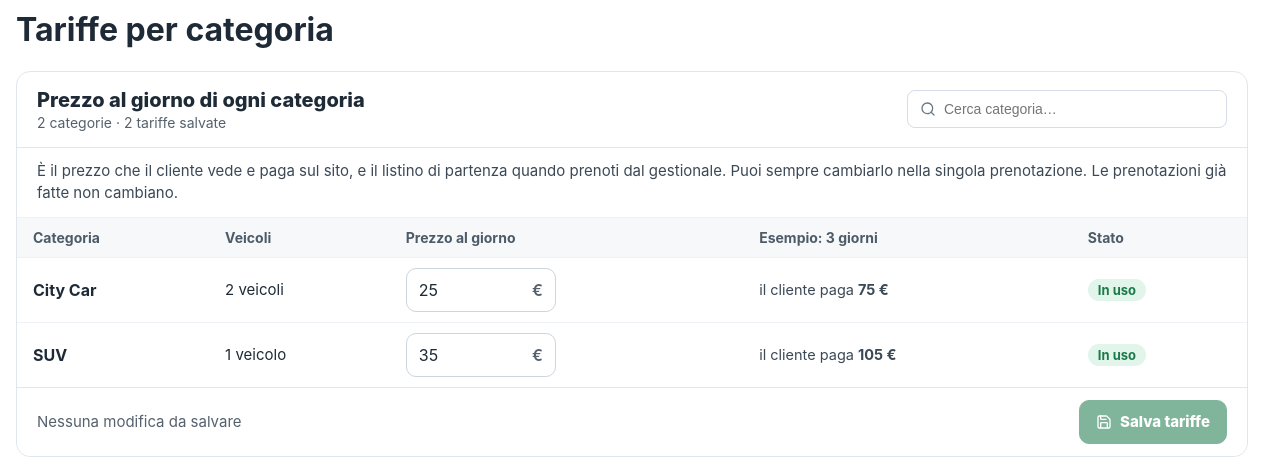
Test: "Annulla modifiche" riporta i campi toccati al valore salvato
Replace the text in the field named "Prezzo al giorno City Car" with "99" at [481, 290], box [406, 268, 556, 312]
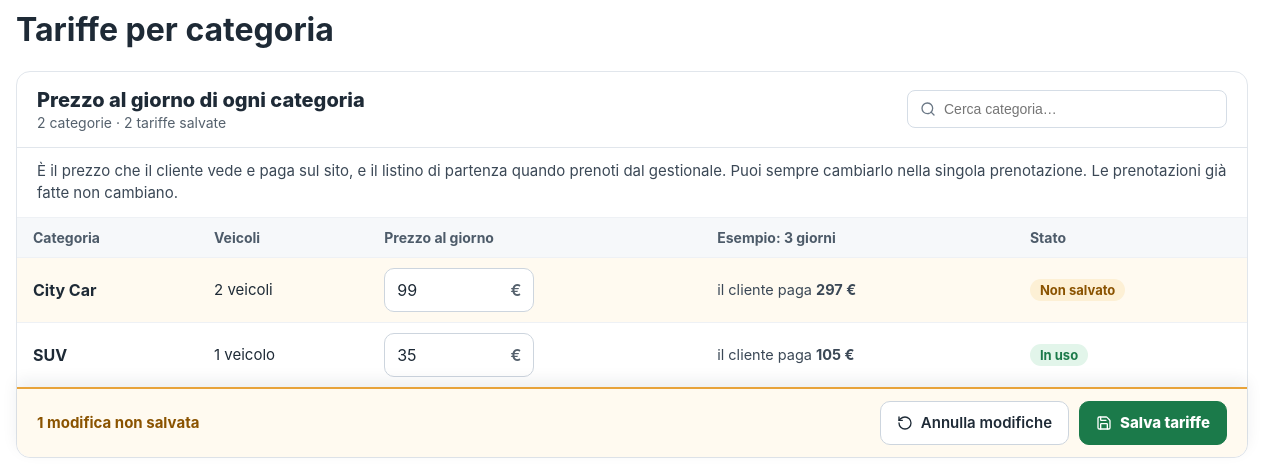
Click the button "Annulla modifiche" at [974, 423], box [880, 401, 1069, 445]
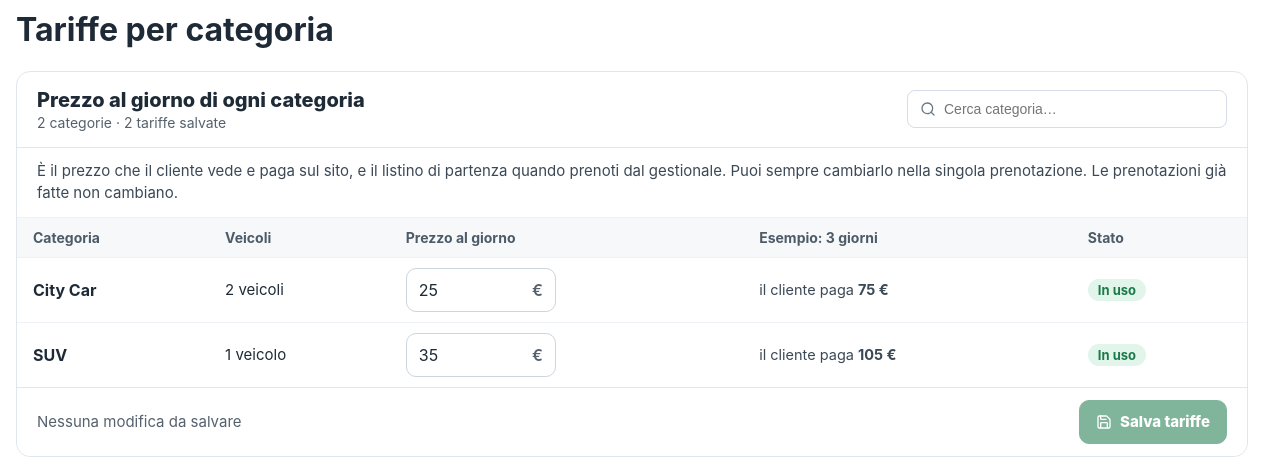
Check: the button "Salva tariffe" is disabled, box [1079, 400, 1227, 444]
